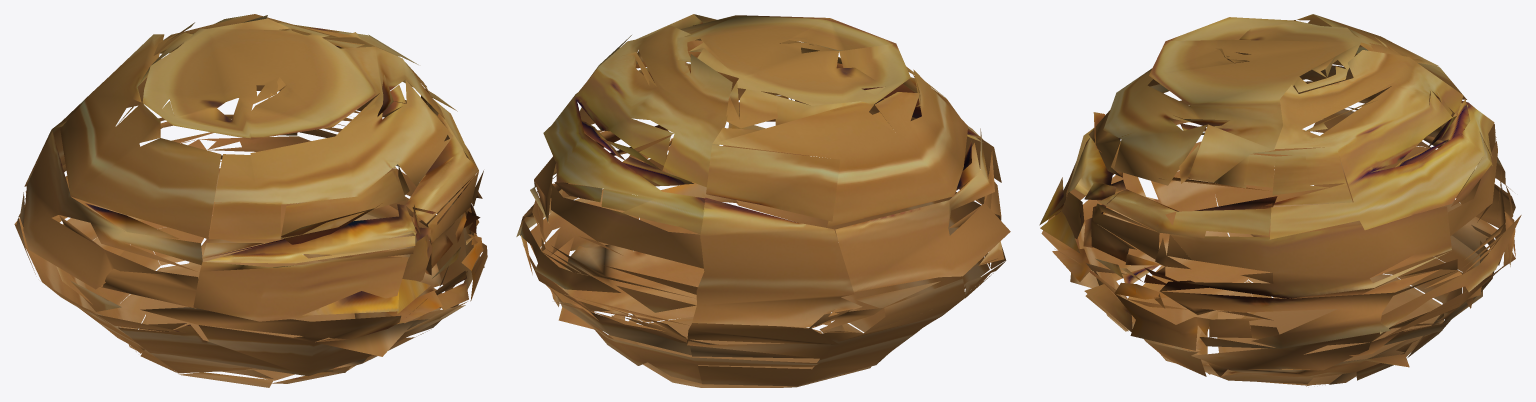
Rendered from desert_boulder_single_lod1.glb.
3 views of the same model, side by side, from view 1: azimuth 30°, elevation 25°; view 2: azimuth 150°, elevation 25°; view 3: azimuth 270°, elevation 25° (orthographic). The views are drawn at different scales.
Parts seen in each view (by area): view 1: desert_boulder_single.001; view 2: desert_boulder_single.001; view 3: desert_boulder_single.001.
Part boxes in pixels (left/top/right/bottom): desert_boulder_single.001: left=14, top=14, right=487, bottom=387; desert_boulder_single.001: left=516, top=14, right=1010, bottom=387; desert_boulder_single.001: left=1039, top=14, right=1521, bottom=386.
Bounding box in the file's own units: 1.49 × 1.04 × 1.49.
Materials: 1 (1 with a texture image).
